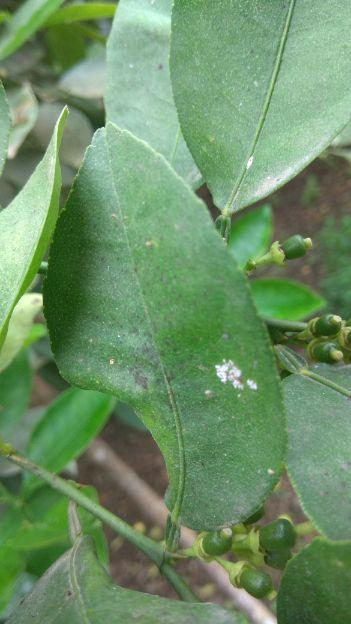Myzus persicae: (215, 359, 257, 397)
